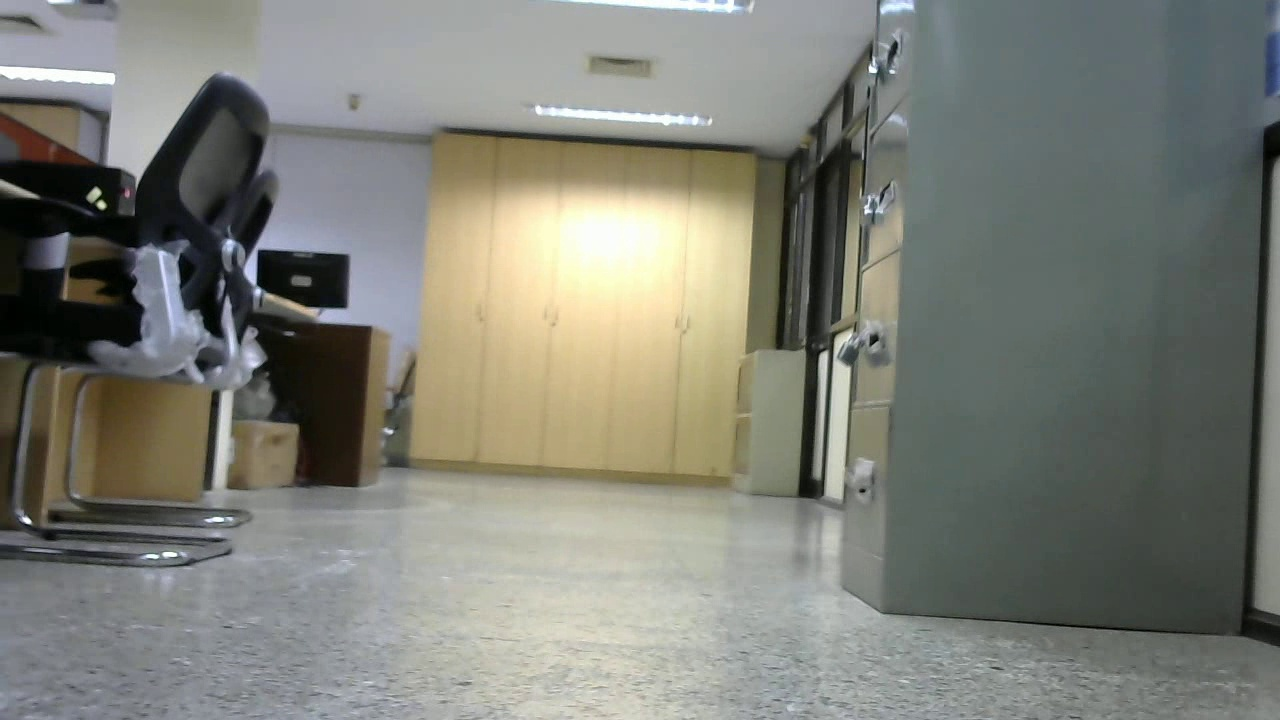chair: (3, 75, 255, 567)
